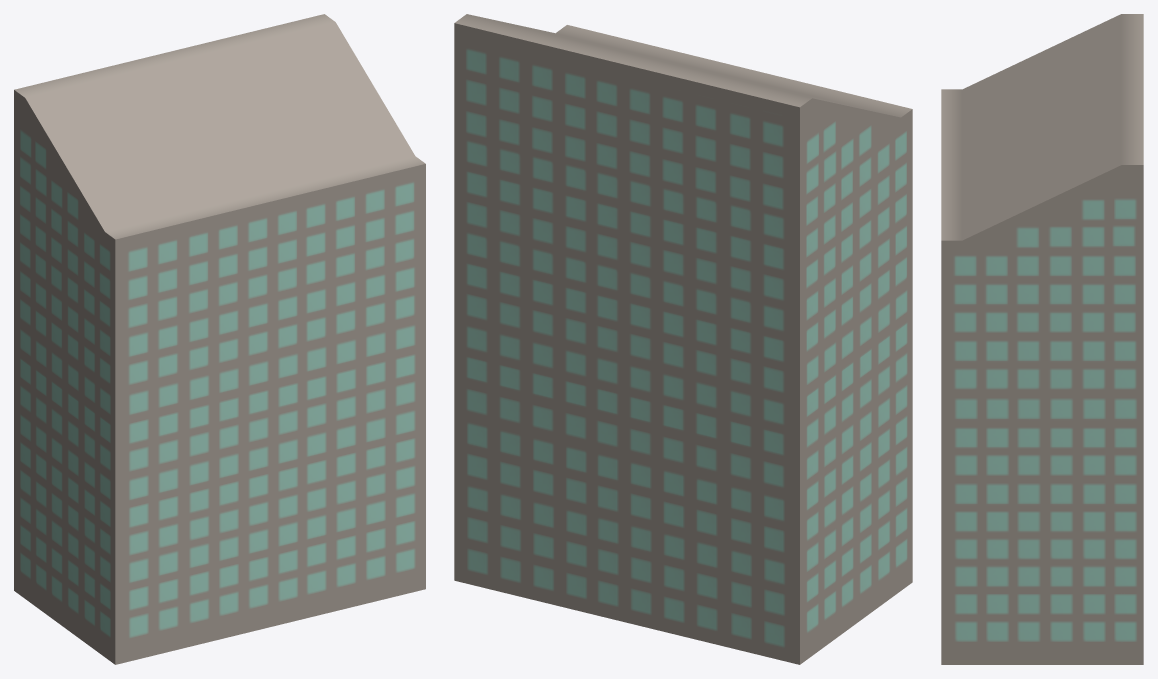
File: c2Whole.fbx
3 renders of one model, left to right at view 1: azimuth 30°, elevation 25°; view 2: azimuth 150°, elevation 25°; view 3: azimuth 270°, elevation 25°, orthographic. The views are drawn at different scales.
Parts seen in each view (by area): view 1: Citigroup2; view 2: Citigroup2; view 3: Citigroup2.
Part boxes in pixels (<box>): Citigroup2: <box>14,14,425,664</box>; Citigroup2: <box>454,14,912,664</box>; Citigroup2: <box>941,14,1143,664</box>.
Size of the model in its own units: 0.1622 by 0.2501 by 0.0917.
1 material, 1 textured.
